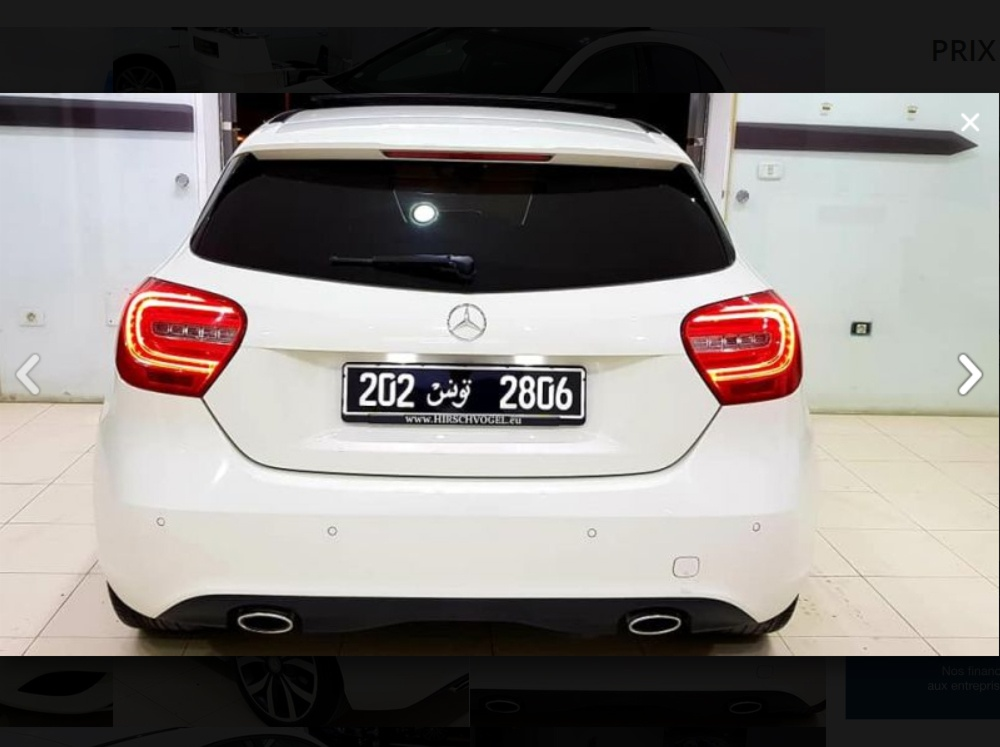LP: (338, 360, 593, 427)
